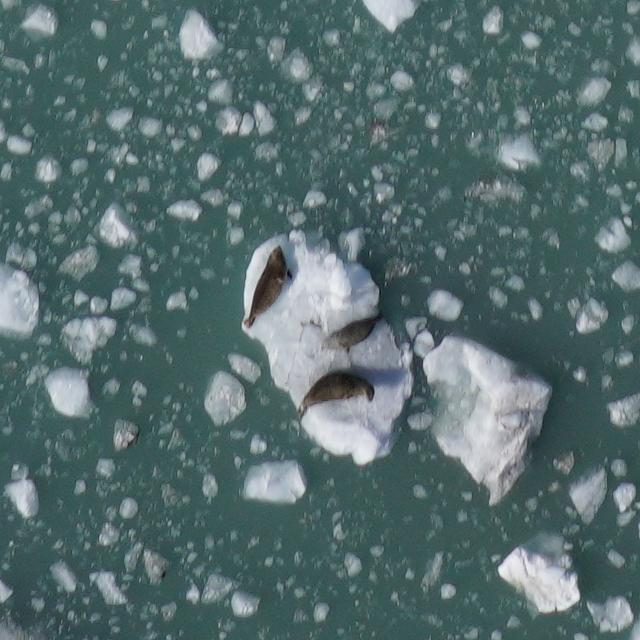seal: (240, 240, 298, 330), (293, 368, 379, 423), (318, 311, 387, 359)
